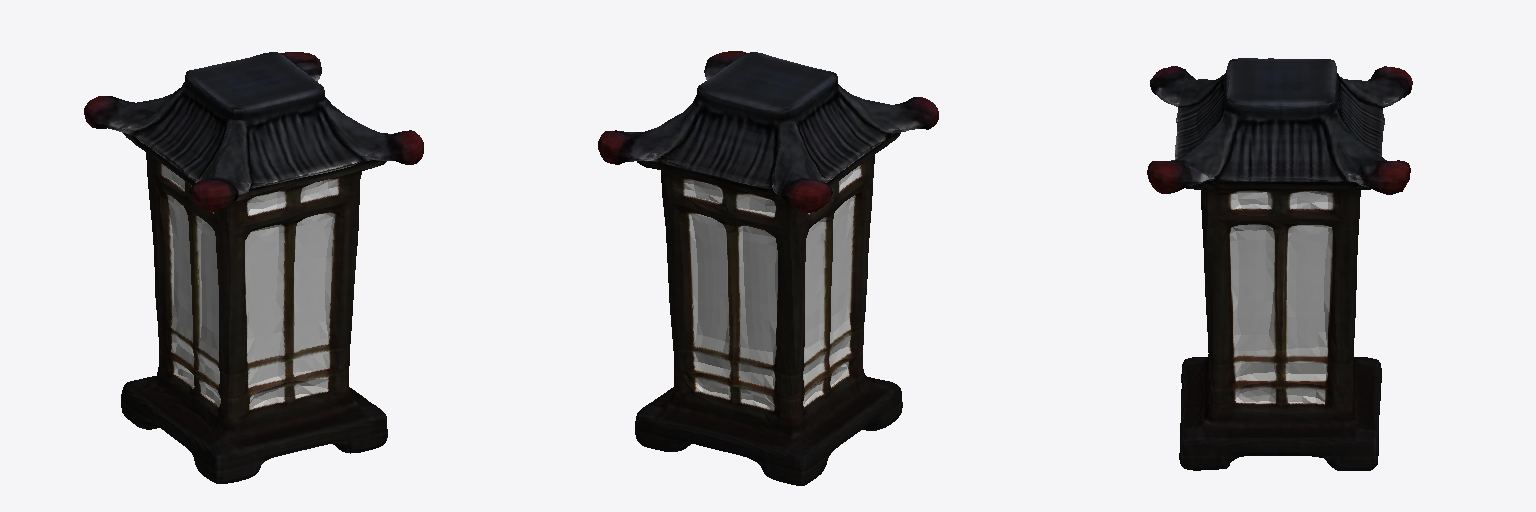
3 renders of one model, left to right at view 1: azimuth 30°, elevation 25°; view 2: azimuth 150°, elevation 25°; view 3: azimuth 270°, elevation 25°, orthographic.
Parts seen in each view (by area): view 1: mesh; view 2: mesh; view 3: mesh.
Part boxes in pixels (bbox=[...]): mesh: bbox=[84, 52, 423, 483]; mesh: bbox=[598, 51, 938, 485]; mesh: bbox=[1147, 58, 1412, 470].
Size of the model in its own units: 0.6836 by 0.9985 by 0.6818.
1 materials, 1 textured.